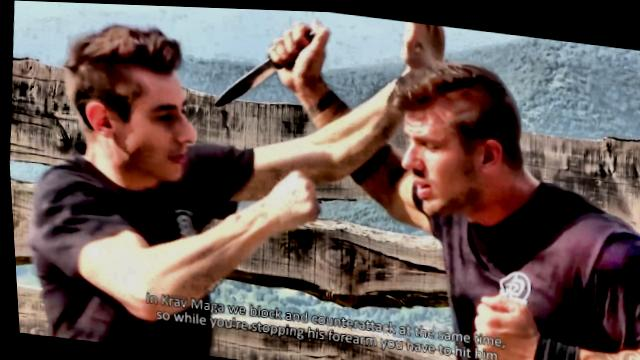knife: (203, 6, 338, 122)
